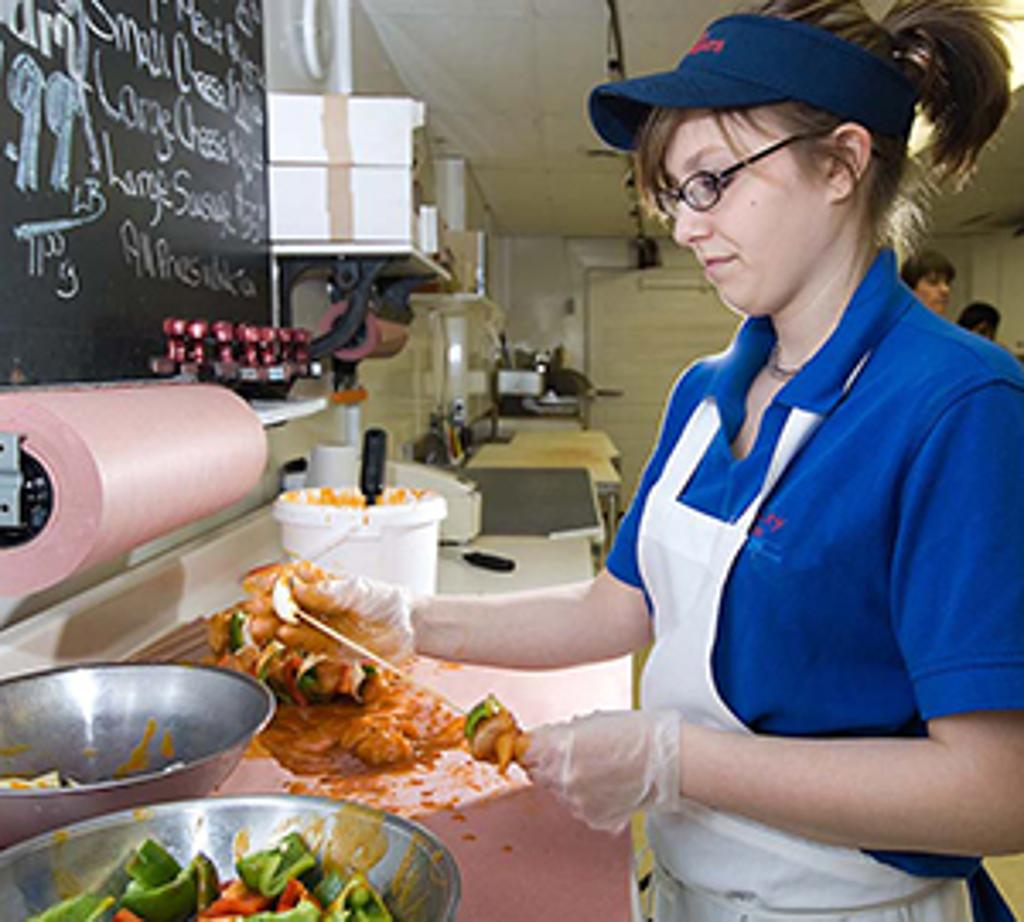face: (664, 92, 832, 314)
